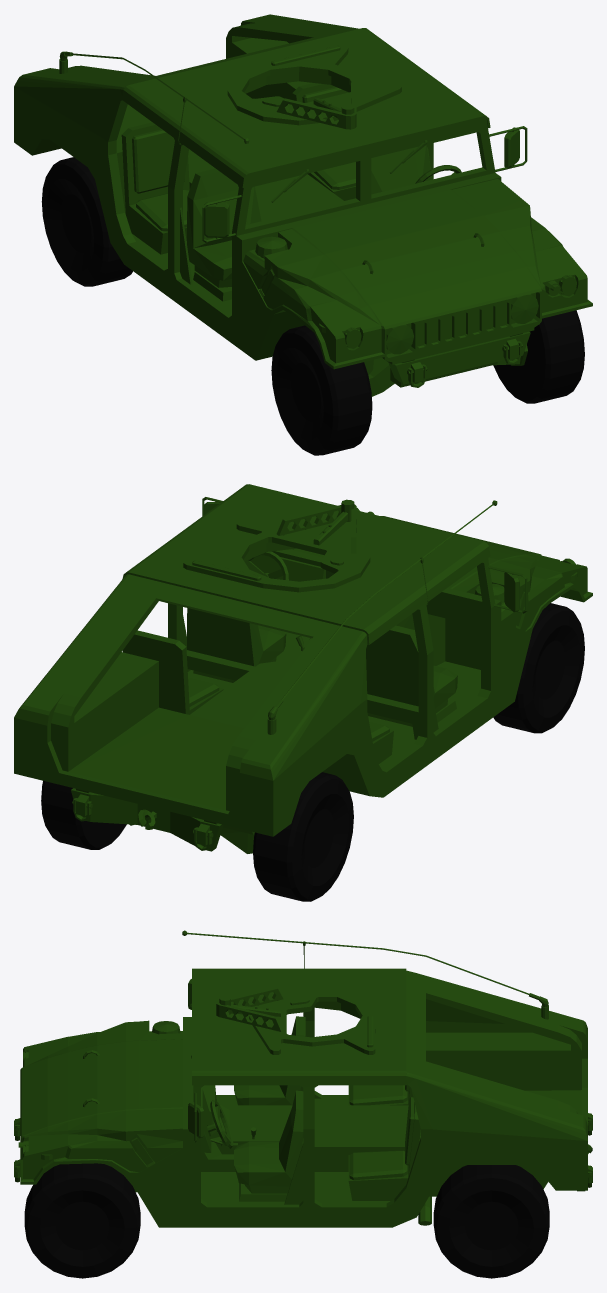
File: Car.fbx
3 renders of one model, top to bottom at view 1: azimuth 30°, elevation 25°; view 2: azimuth 150°, elevation 25°; view 3: azimuth 270°, elevation 25°, orthographic. The views are drawn at different scales.
Visible parts, largest first — view 1: Object04; view 2: Object04; view 3: Object04.
Boxes of the visible parts, bbox=[...] form: Object04: bbox=[14, 14, 592, 455]; Object04: bbox=[14, 484, 592, 901]; Object04: bbox=[14, 930, 592, 1278].
Bounding box in the file's own units: 269 × 215 × 468.
